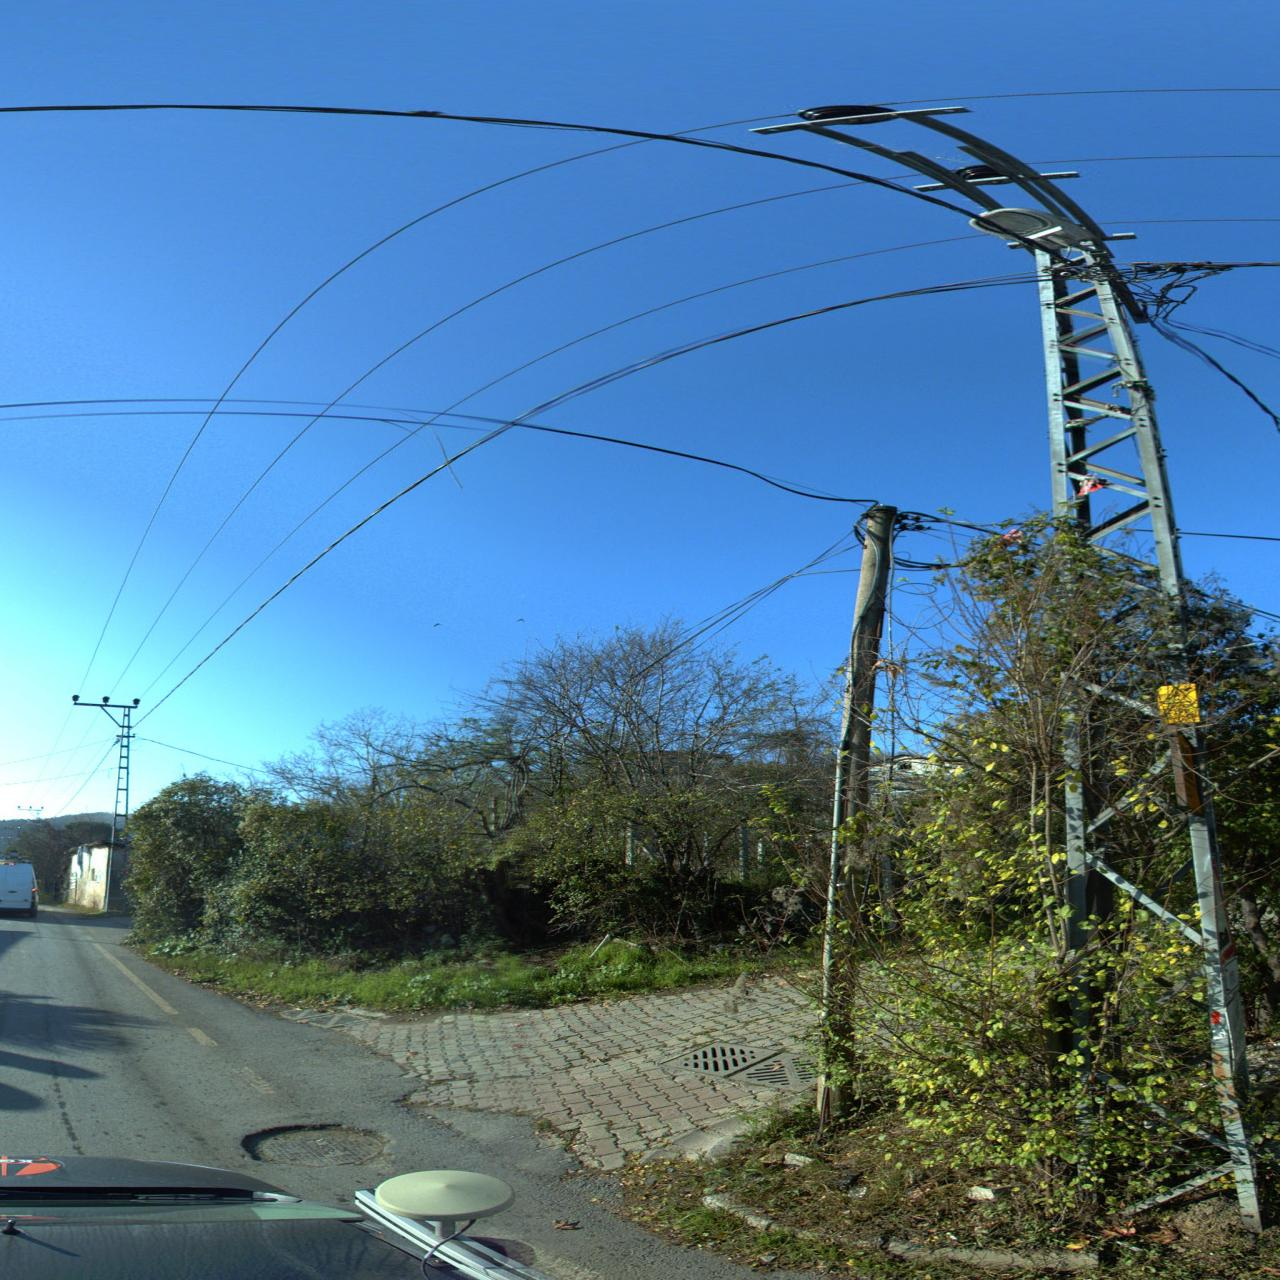Utility Pole Information Plate: (1156, 682, 1204, 726)
